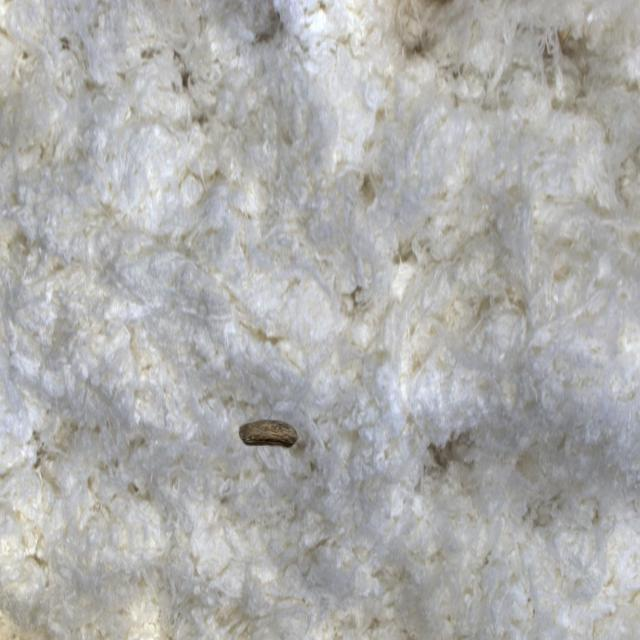dust: (214, 371, 318, 507)
